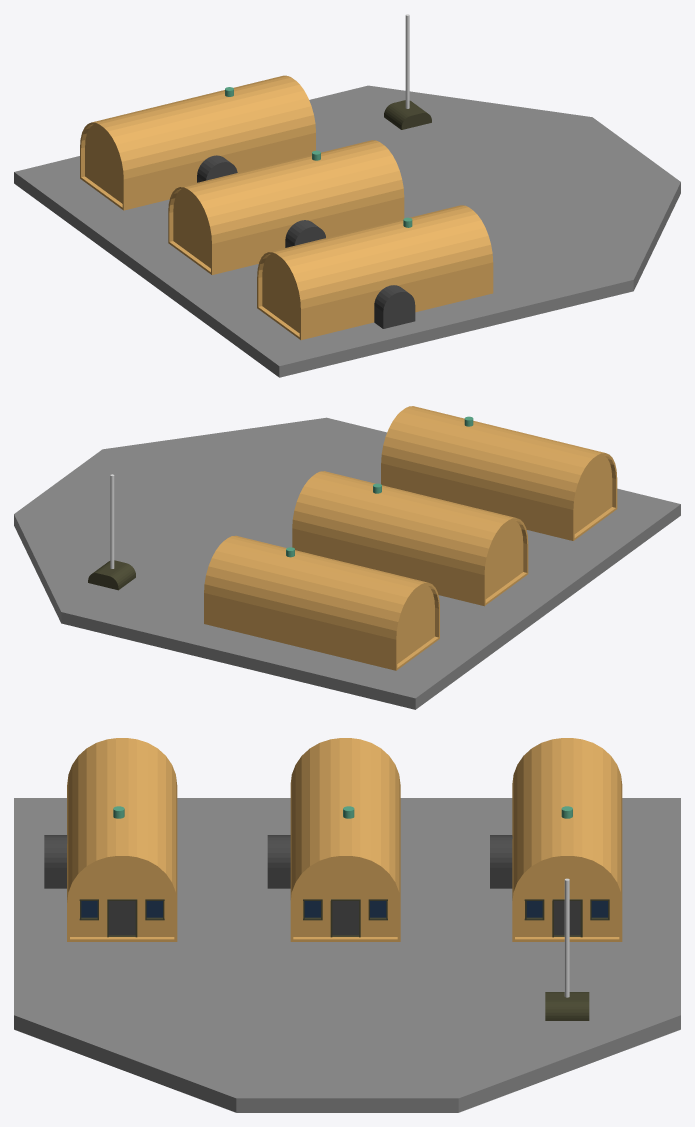
File: Казарма.fbx
3 views of the same model, one above another, from view 1: azimuth 30°, elevation 25°; view 2: azimuth 150°, elevation 25°; view 3: azimuth 270°, elevation 25° (orthographic). The views are drawn at different scales.
Visible parts, largest first — view 1: Фундамент, Казарма.001, Казарма.002, Казарма, Блоки/Щит.002, Флаг, Блоки/Щит.001, Блоки/Щит; view 2: Фундамент, Казарма, Казарма.001, Казарма.002, Флаг, Флаг.001; view 3: Фундамент, Казарма.001, Казарма.002, Казарма, Блоки/Щит.001, Флаг, Блоки/Щит.002, Блоки/Щит, Флаг.001.
Part boxes in pixels (x1,y1,x2,y2): Фундамент: [14, 85, 680, 377]; Казарма.001: [257, 205, 493, 340]; Казарма.002: [168, 140, 404, 274]; Казарма: [80, 75, 315, 210]; Блоки/Щит.002: [374, 285, 415, 328]; Флаг: [384, 100, 431, 129]; Блоки/Щит.001: [285, 220, 325, 247]; Блоки/Щит: [197, 155, 237, 182]; Фундамент: [14, 417, 680, 709]; Казарма: [204, 535, 439, 670]; Казарма.001: [381, 406, 617, 540]; Казарма.002: [292, 471, 528, 606]; Флаг: [88, 560, 135, 590]; Флаг.001: [110, 474, 114, 568]; Фундамент: [14, 798, 680, 1112]; Казарма.001: [67, 738, 177, 941]; Казарма.002: [290, 738, 400, 941]; Казарма: [512, 738, 622, 941]; Блоки/Щит.001: [267, 835, 290, 888]; Флаг: [545, 992, 589, 1020]; Блоки/Щит.002: [44, 835, 67, 888]; Блоки/Щит: [490, 835, 512, 888]; Флаг.001: [564, 878, 569, 997].
Bounding box in the file's own units: 2144 × 487 × 2012.
